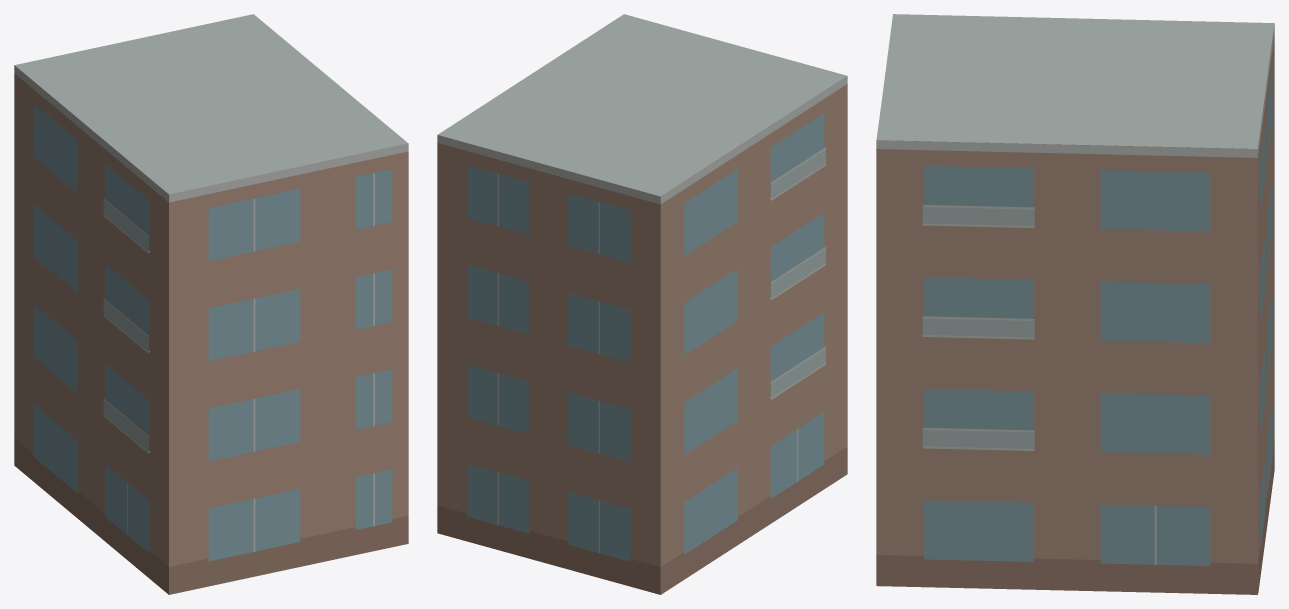
The model's file is residential-b32cba8e-e1d9-4257-89e2-8a2b93816b4b.glb.
3 renders of one model, left to right at view 1: azimuth 30°, elevation 25°; view 2: azimuth 150°, elevation 25°; view 3: azimuth 270°, elevation 25°, orthographic. The views are drawn at different scales.
Parts seen in each view (by area): view 1: residential-b32cba8e-e1d9-4257-89e2-8a2b93816b4b.tmp; view 2: residential-b32cba8e-e1d9-4257-89e2-8a2b93816b4b.tmp; view 3: residential-b32cba8e-e1d9-4257-89e2-8a2b93816b4b.tmp.
Boxes of the visible parts, x1,y1,x2,y2 form: residential-b32cba8e-e1d9-4257-89e2-8a2b93816b4b.tmp: [14, 14, 408, 594]; residential-b32cba8e-e1d9-4257-89e2-8a2b93816b4b.tmp: [437, 14, 847, 594]; residential-b32cba8e-e1d9-4257-89e2-8a2b93816b4b.tmp: [876, 14, 1274, 594].
Bounding box in the file's own units: 7.93 × 12.2 × 9.89.
